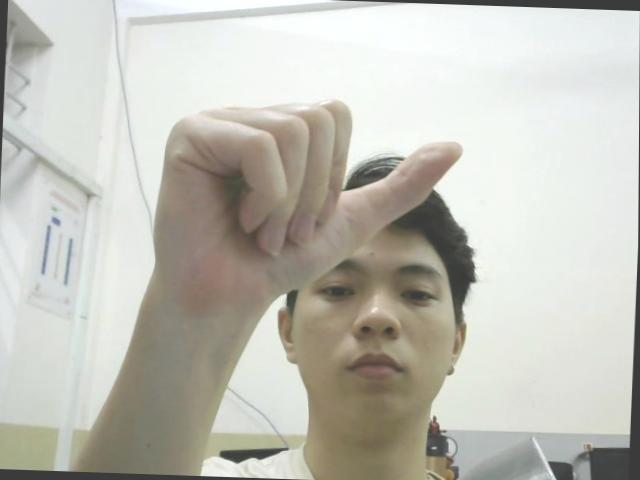A: (148, 89, 466, 300)
